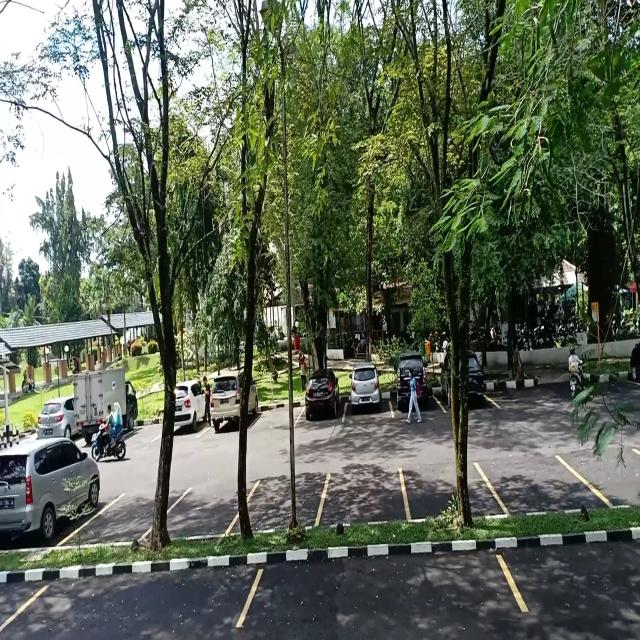empty: (242, 551, 523, 624), (4, 563, 264, 640), (490, 451, 583, 514), (403, 464, 500, 521), (321, 467, 405, 532), (248, 471, 328, 533), (169, 485, 239, 544), (90, 488, 159, 547), (256, 396, 299, 432)
occupied: (0, 443, 101, 548), (298, 379, 345, 431), (345, 375, 392, 421)
